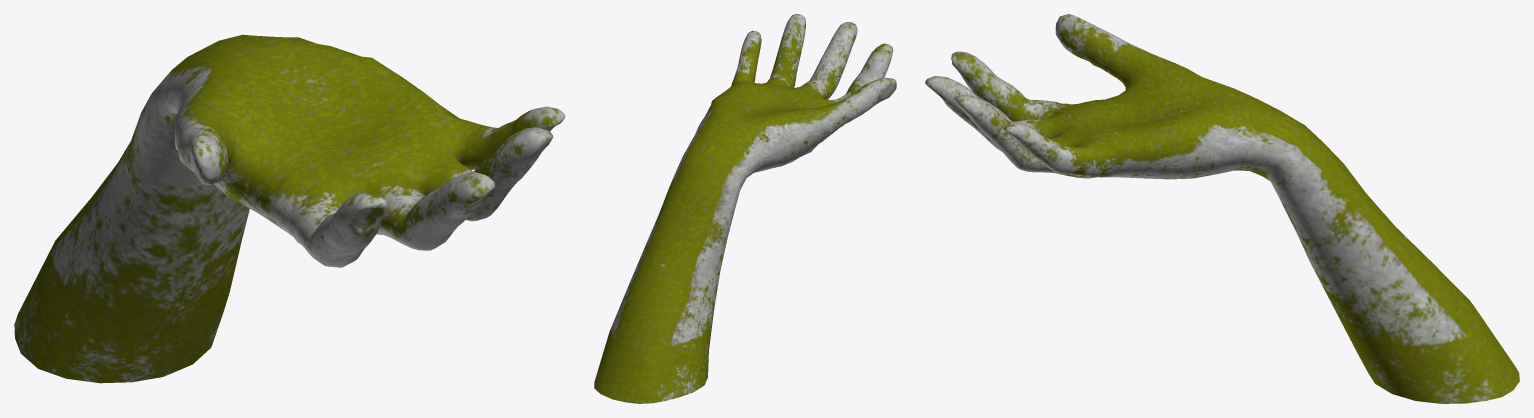
File: Ancient_Hand.FBX
3 views of the same model, side by side, from view 1: azimuth 30°, elevation 25°; view 2: azimuth 150°, elevation 25°; view 3: azimuth 270°, elevation 25° (orthographic). The views are drawn at different scales.
Parts seen in each view (by area): view 1: Ancient_Hand; view 2: Ancient_Hand; view 3: Ancient_Hand.
Boxes of the visible parts, x1,y1,x2,y2 form: Ancient_Hand: (14,34,565,383); Ancient_Hand: (594,14,896,403); Ancient_Hand: (925,14,1519,403).
Size of the model in its own units: 91.47 by 119 by 213.
